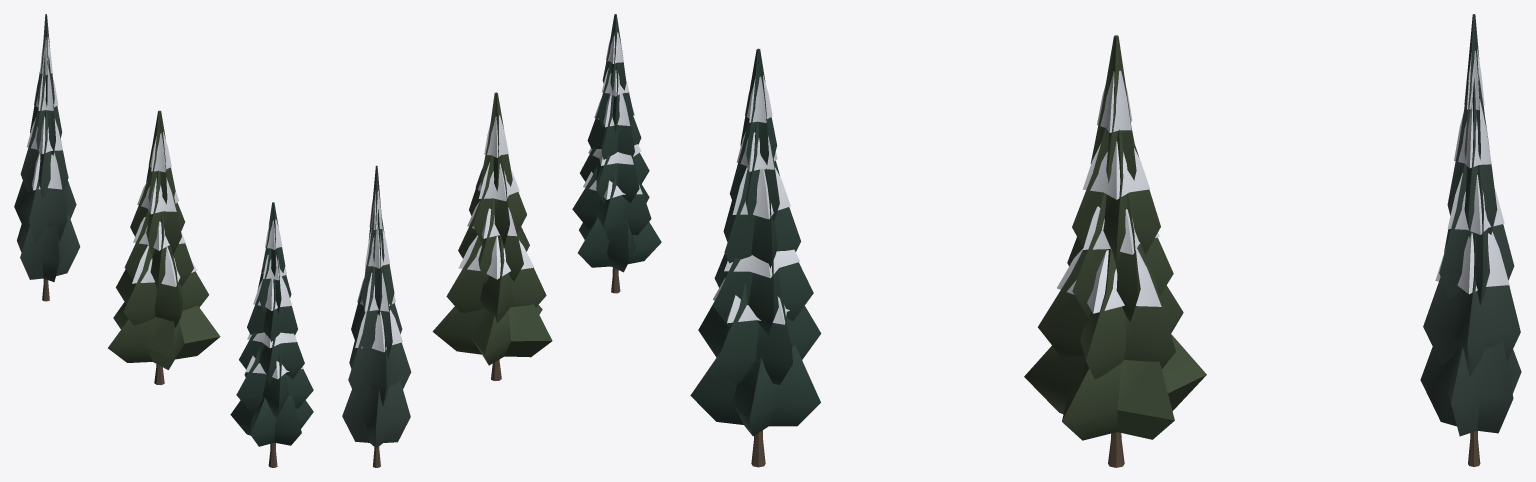
File: Trees.fbx
3 renders of one model, left to right at view 1: azimuth 30°, elevation 25°; view 2: azimuth 150°, elevation 25°; view 3: azimuth 270°, elevation 25°, orthographic. The views are drawn at different scales.
Visible parts, largest first — view 1: TreeB, TreeA, TreeC, SnowB, SnowC, SnowA; view 2: TreeB, TreeA, TreeC, SnowB, SnowC, SnowA; view 3: TreeB, TreeA, TreeC, SnowB, SnowC, SnowA.
Boxes of the visible parts, <box> form: TreeB: <box>108,110,220,384</box>; TreeA: <box>230,202,313,467</box>; TreeC: <box>14,14,80,301</box>; SnowB: <box>132,132,197,286</box>; SnowC: <box>22,37,69,190</box>; SnowA: <box>245,219,303,379</box>; TreeB: <box>432,92,552,380</box>; TreeA: <box>572,14,661,293</box>; TreeC: <box>342,165,411,467</box>; SnowB: <box>458,115,534,279</box>; SnowC: <box>355,190,402,352</box>; SnowA: <box>583,32,642,199</box>; TreeB: <box>1024,35,1206,467</box>; TreeA: <box>690,48,821,467</box>; TreeC: <box>1420,14,1521,466</box>; SnowB: <box>1057,70,1161,313</box>; SnowC: <box>1435,49,1509,294</box>; SnowA: <box>713,75,800,324</box>.
Size of the model in its own units: 4.42 by 12.48 by 20.91.
